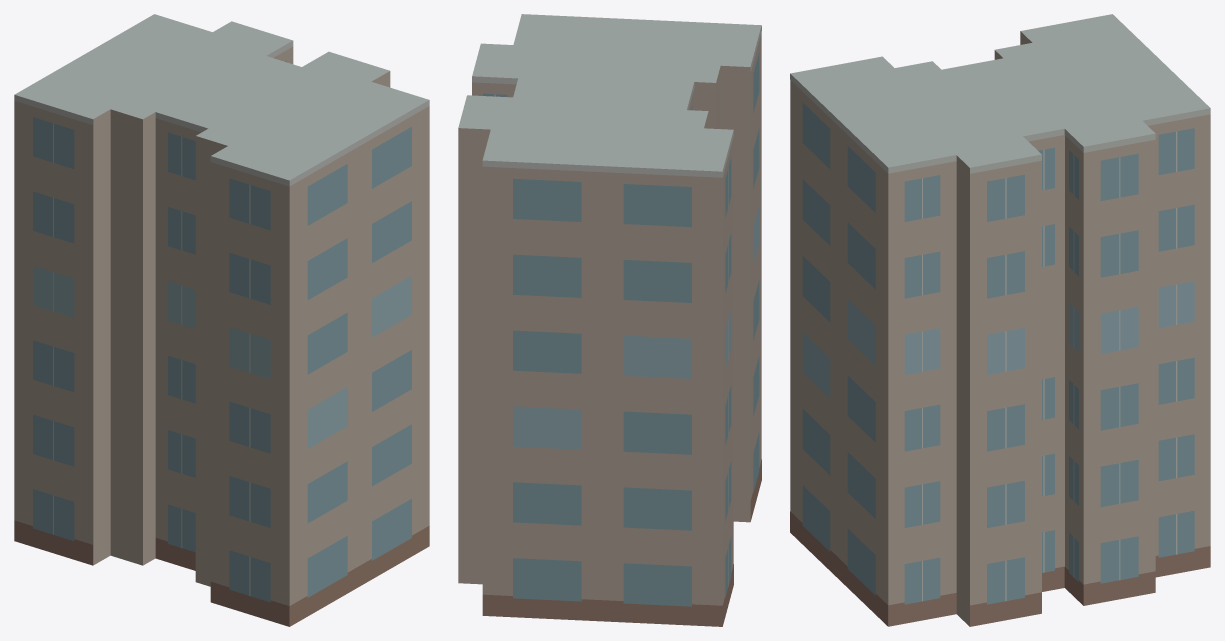
File: survey-upis-32759742.glb
3 renders of one model, left to right at view 1: azimuth 30°, elevation 25°; view 2: azimuth 150°, elevation 25°; view 3: azimuth 270°, elevation 25°, orthographic. The views are drawn at different scales.
Parts seen in each view (by area): view 1: survey-upis-32759742.tmp; view 2: survey-upis-32759742.tmp; view 3: survey-upis-32759742.tmp.
Boxes of the visible parts, bbox=[...] form: survey-upis-32759742.tmp: bbox=[14, 14, 429, 626]; survey-upis-32759742.tmp: bbox=[458, 14, 761, 626]; survey-upis-32759742.tmp: bbox=[790, 14, 1210, 626].
Bounding box in the file's own units: 13.23 × 18.4 × 15.29.
